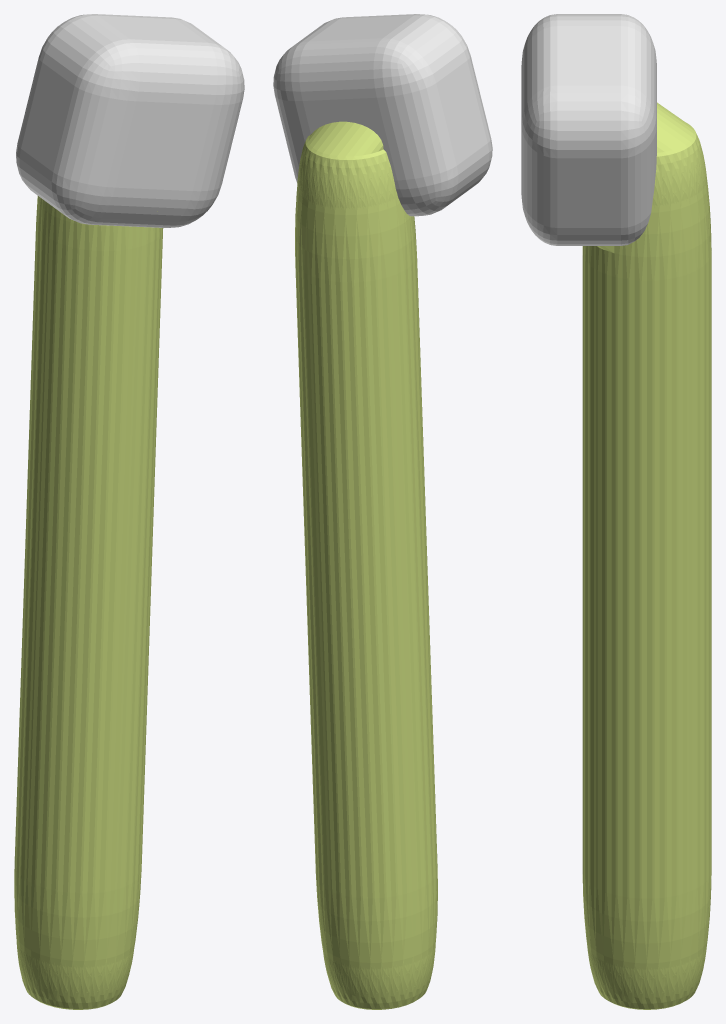
File: knee_new.dae
The picture shows the model from 3 angles, left to right: view 1: azimuth 30°, elevation 25°; view 2: azimuth 150°, elevation 25°; view 3: azimuth 270°, elevation 25°; orthographic projection. The views are drawn at different scales.
Parts seen in each view (by area): view 1: Cylinder; view 2: Cylinder; view 3: Cylinder.
Boxes of the visible parts, box(x1,y1,x2,y2) form: Cylinder: box(14, 14, 244, 1009); Cylinder: box(273, 14, 492, 1009); Cylinder: box(521, 14, 711, 1009).
Bounding box in the file's own units: 0.0508 × 0.0447 × 0.2524.
